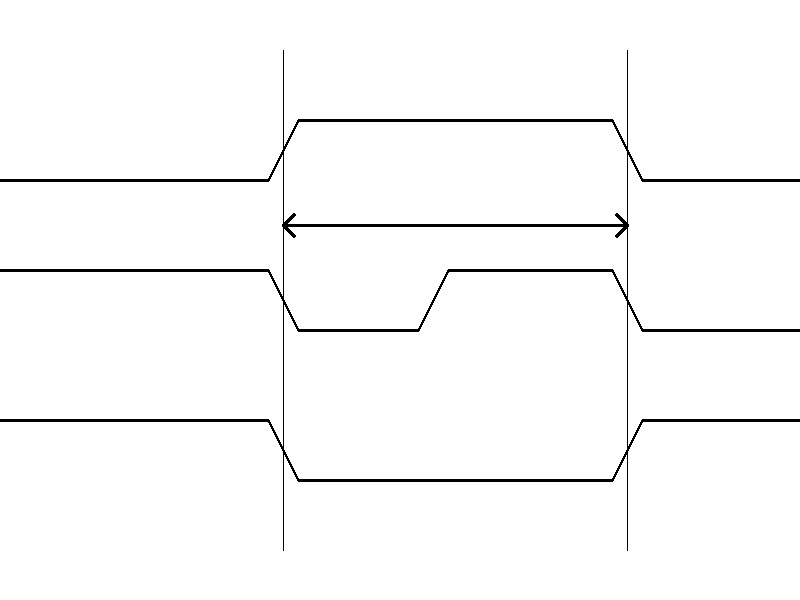double_arrow: (283, 210, 627, 240)
